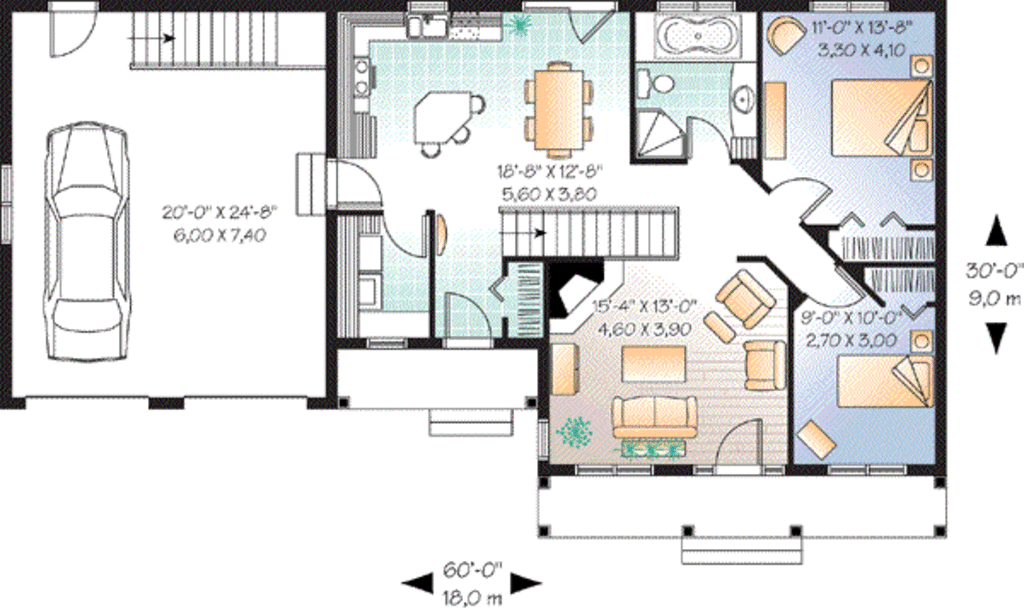bed: (833, 74, 936, 172), (832, 347, 938, 414)
dining_table: (514, 46, 610, 179)
door: (438, 288, 498, 352), (326, 157, 394, 211), (43, 1, 100, 64), (714, 414, 767, 475), (774, 173, 833, 225), (679, 112, 734, 167), (803, 261, 865, 308), (377, 208, 433, 259)
kitchen_bar: (400, 90, 494, 161)
large_sink: (630, 59, 685, 106)
large_sofa: (609, 389, 706, 443)
small_sink: (722, 73, 761, 117)
small_sofa: (708, 264, 777, 333), (741, 333, 785, 396)
stairs: (130, 10, 329, 80), (500, 202, 699, 271)
tub: (627, 6, 755, 63)
twin_sink: (402, 1, 462, 44)
window: (829, 457, 907, 477), (580, 460, 657, 480), (1, 165, 18, 245), (361, 333, 408, 349), (537, 420, 552, 459)
